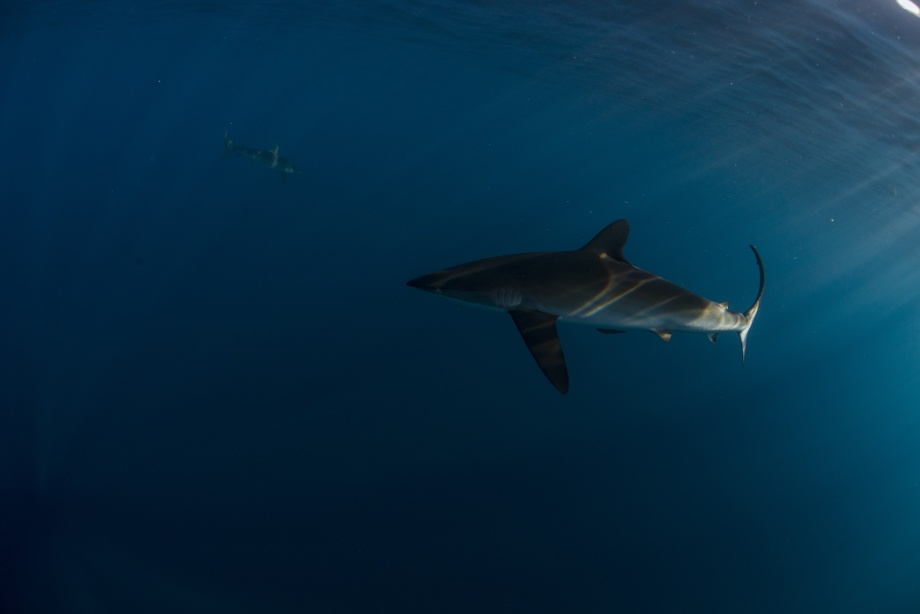Sedoso: (387, 210, 792, 408)
